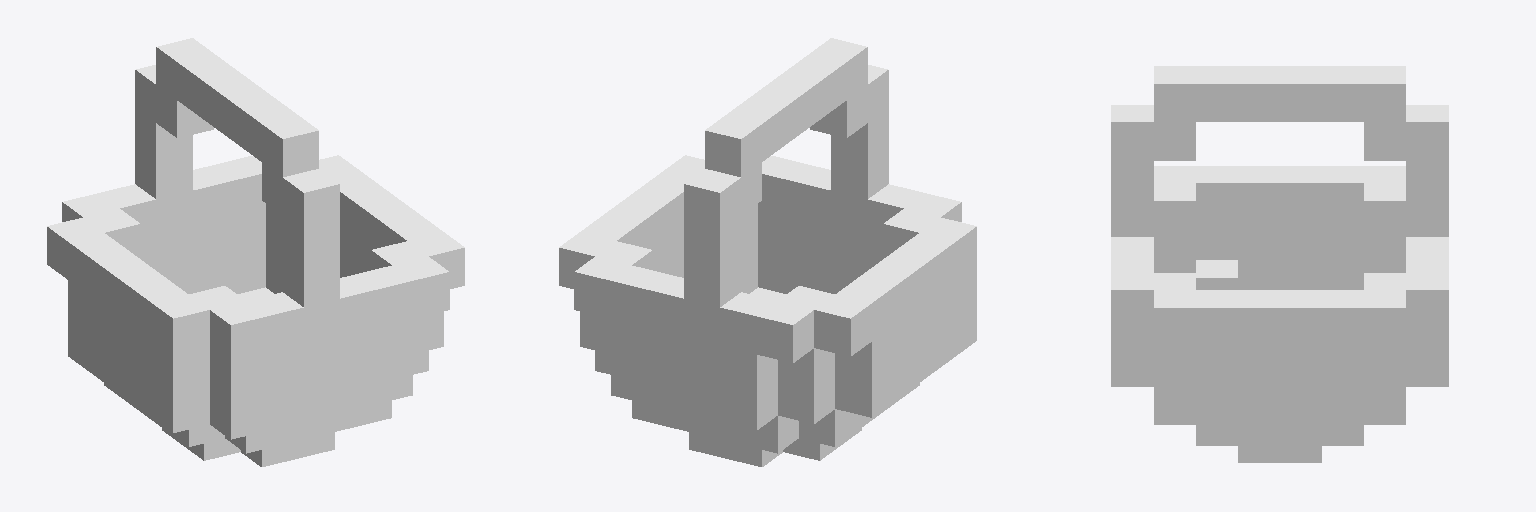
File: Caldron.obj
3 views of the same model, side by side, from view 1: azimuth 30°, elevation 25°; view 2: azimuth 150°, elevation 25°; view 3: azimuth 270°, elevation 25° (orthographic).
Size of the model in its own units: 8 by 9 by 8.